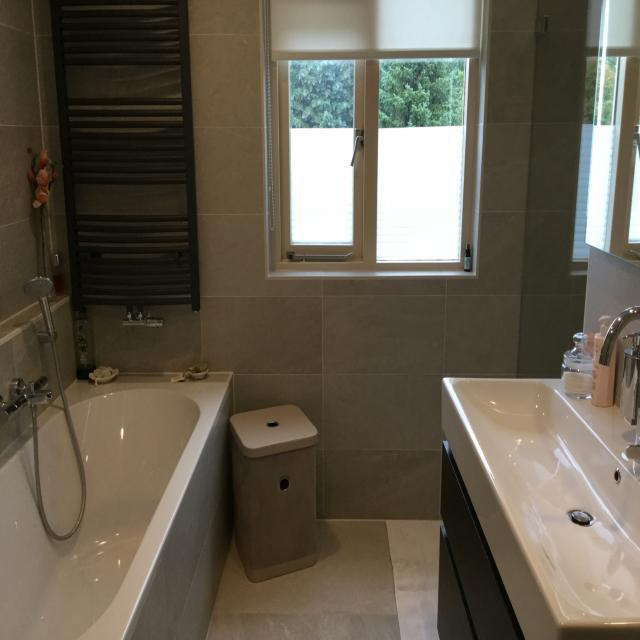bath: (0, 364, 233, 640)
designradiator: (46, 0, 204, 332)
wastafel: (441, 304, 640, 640), (439, 440, 545, 640)
